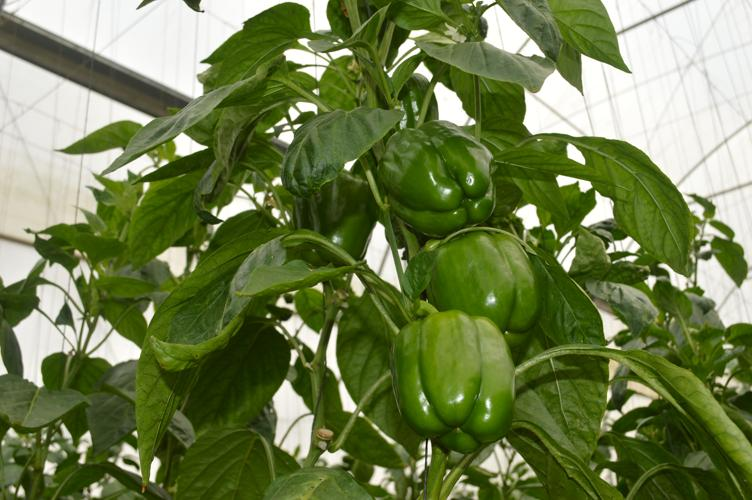BellPepper: (385, 304, 526, 460), (358, 110, 491, 235), (414, 219, 541, 330), (294, 168, 385, 284)
